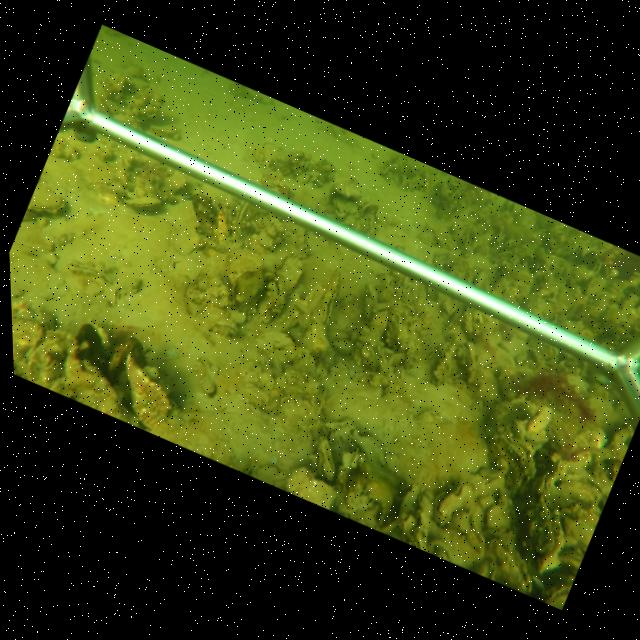Oyster-Closed: (299, 269, 343, 369), (486, 430, 539, 498), (227, 248, 266, 320), (435, 482, 476, 519), (349, 338, 388, 375), (29, 179, 67, 216), (313, 441, 339, 484), (403, 318, 424, 367), (121, 196, 164, 211), (363, 282, 379, 304), (363, 297, 372, 324)
Oyster-Indeterminate: (122, 355, 175, 431), (276, 253, 305, 299), (384, 310, 402, 351)
Oyster-Open: (484, 536, 534, 595), (258, 273, 283, 321), (458, 226, 479, 259), (210, 318, 237, 336), (587, 259, 604, 276)
